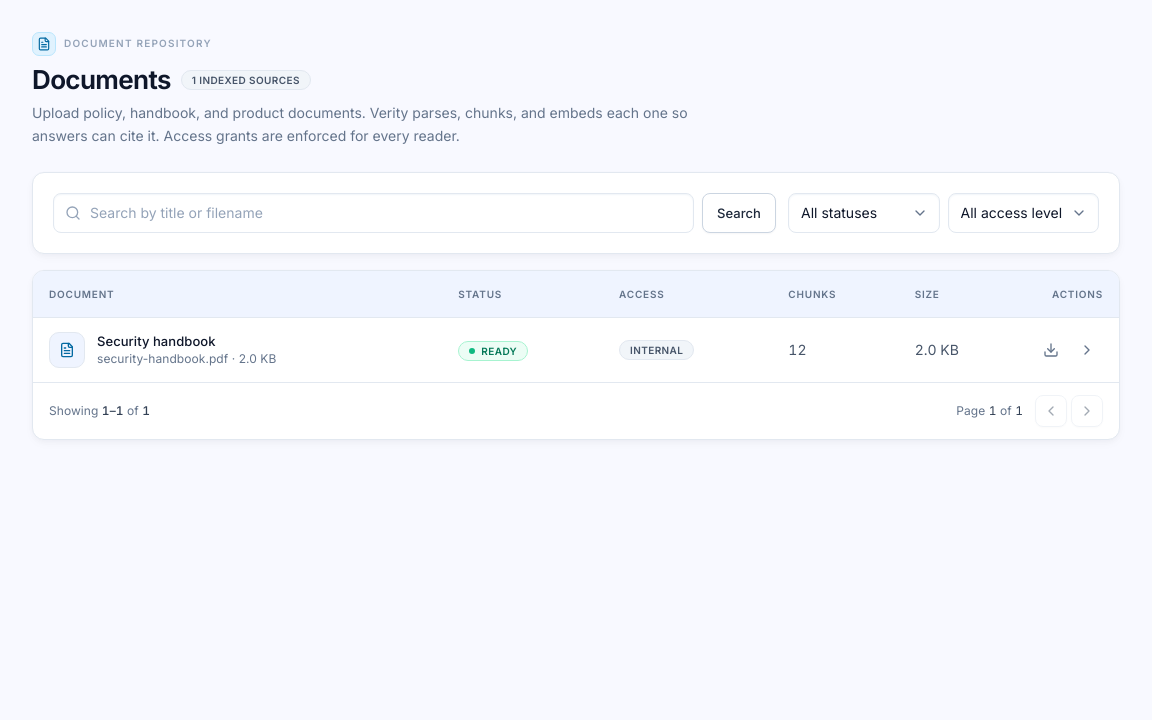
Scenario: Documents page › hides upload and access editing from viewers
The image size is (1152, 720).
Expected: the button "Security handbook" is shown, [97,332,216,350]
Click the button named "Open Security handbook": (1087, 350) [1071,334,1103,366]
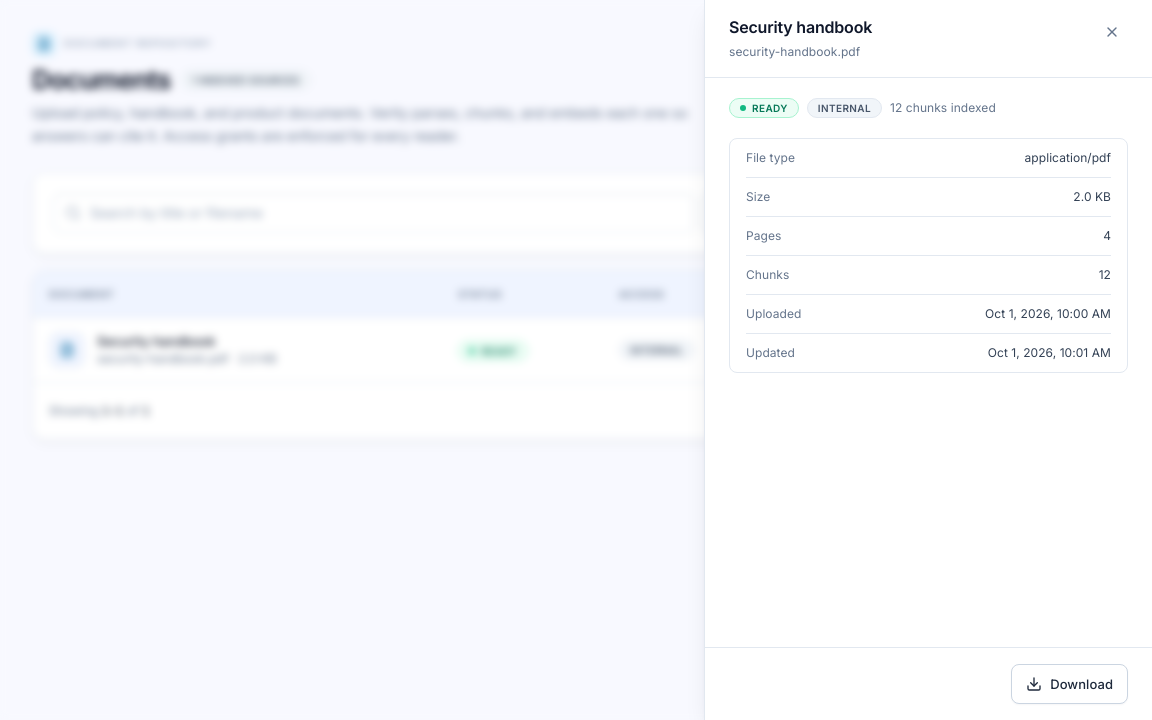
Expected: the heading "Security handbook" is shown, [729,16,872,39]
